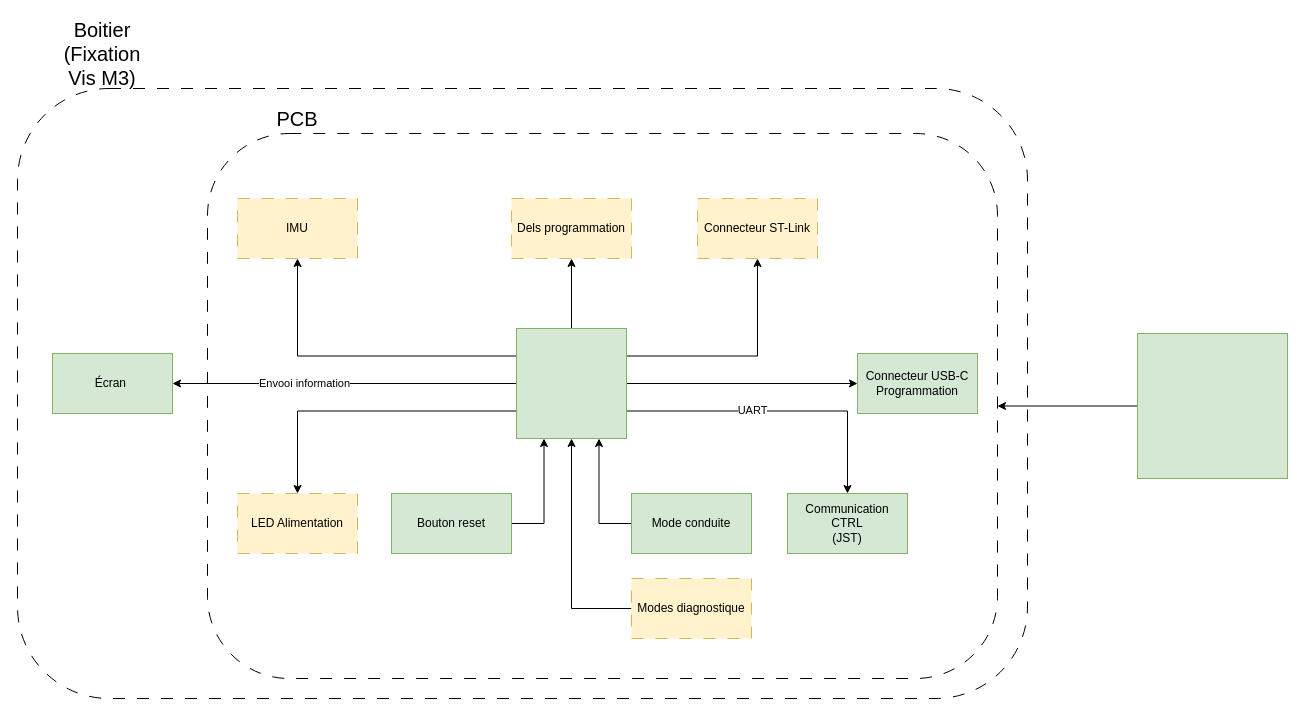
Image size: 1305x716. Some labels were removed from this diagram. Here are the shapes that lost their labels. From the top down, the centre of each, then its label:
pixel 571 383: STM32 (Programmation
pixel 1212 405: Alimentation (Charge alimentation à confirmer)
